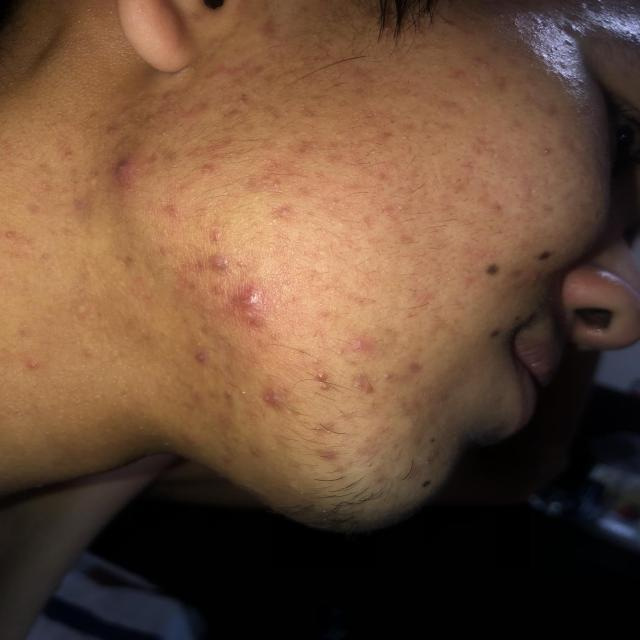Acne: (24, 44, 562, 413)
